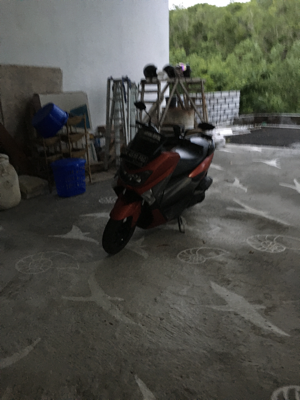moto: (99, 105, 219, 250)
